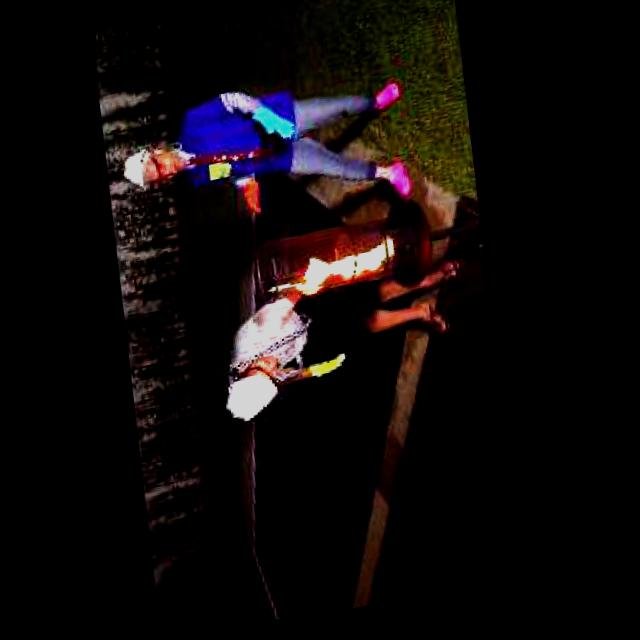helmet: (274, 239, 397, 302)
